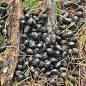Elk: (26, 17, 74, 73)
